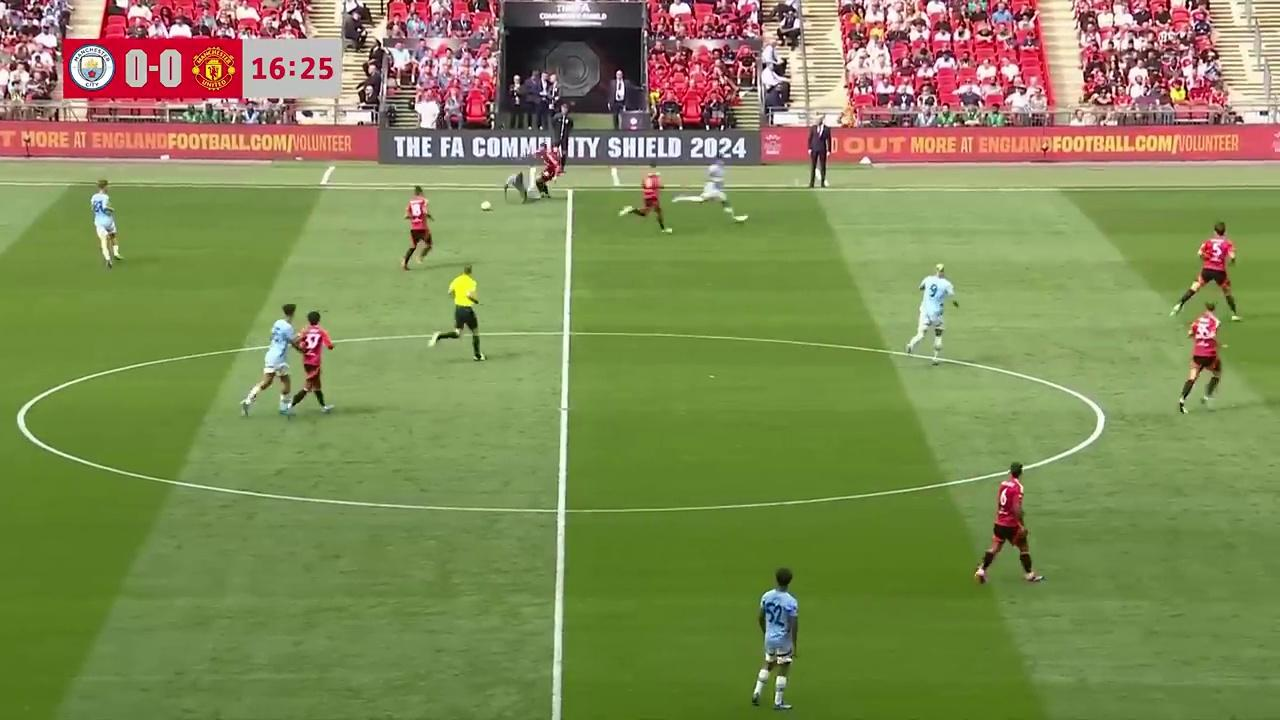ball: (479, 196, 493, 211)
player: (974, 463, 1043, 585), (752, 568, 799, 710), (241, 307, 296, 418), (1179, 222, 1240, 319), (1177, 302, 1225, 412), (906, 264, 959, 361), (289, 309, 334, 415), (89, 179, 122, 268), (629, 167, 672, 232), (401, 185, 433, 272), (700, 160, 741, 218), (529, 142, 561, 200), (503, 170, 533, 203)
referee: (446, 265, 486, 362)
